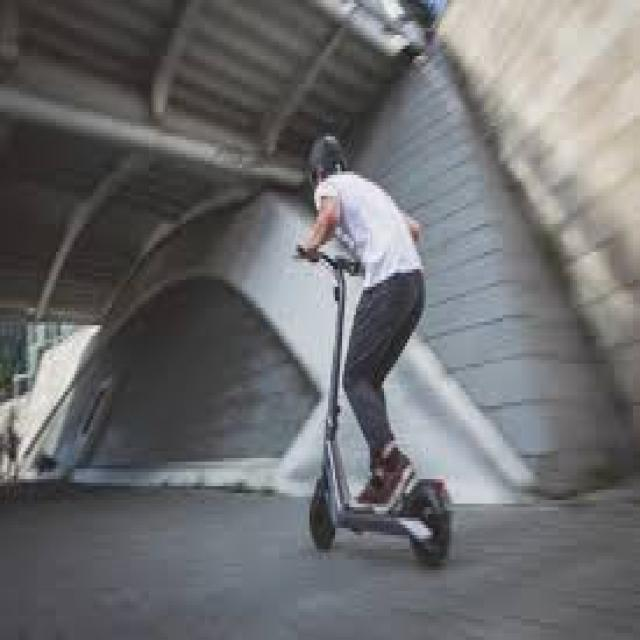helmet: (291, 124, 459, 576)
